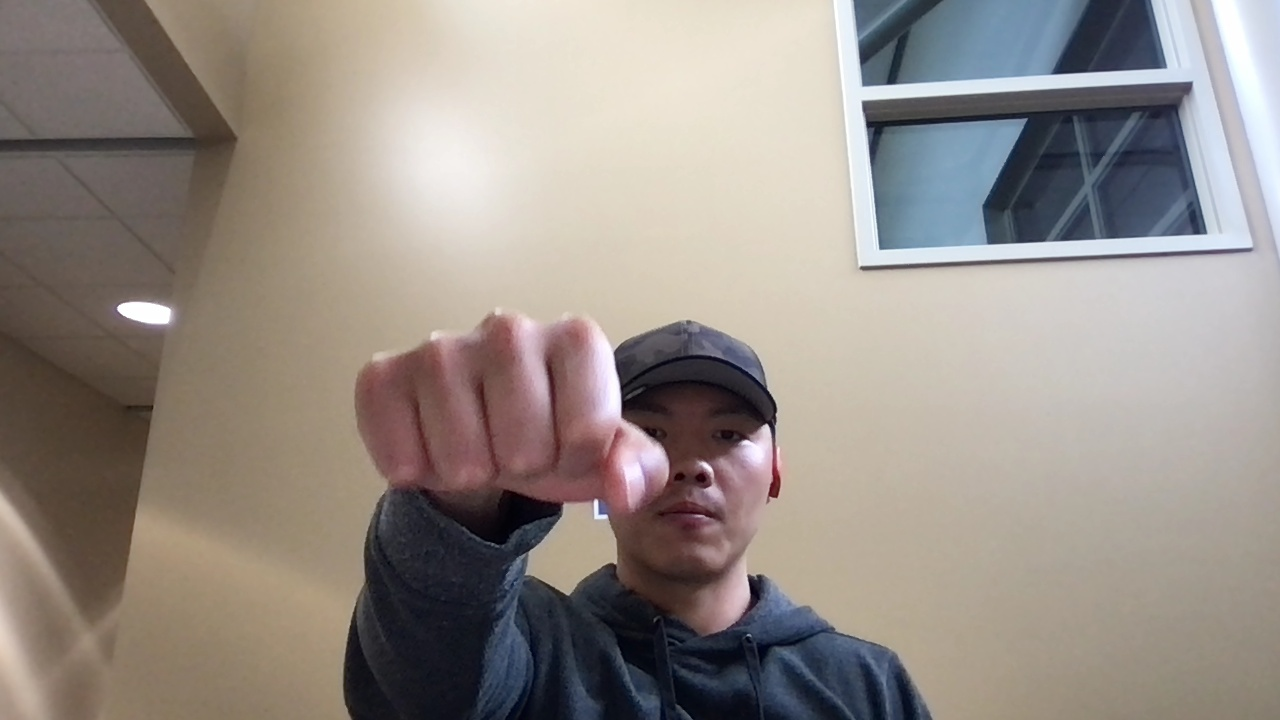Yes: (350, 307, 671, 538)
